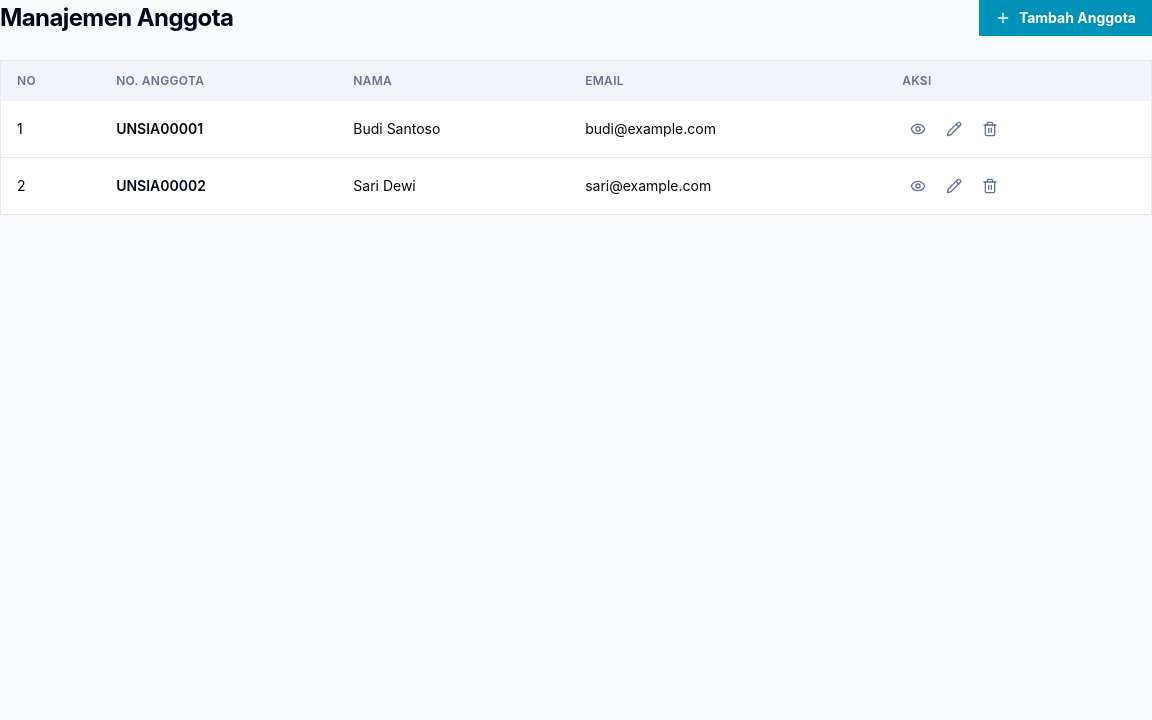
Test: MembersPage › falls back to a dash when optional fields and audit users are null
The width and height of the screenshot is (1152, 720).
Expected: the text "Budi Santoso" is shown, [337, 101, 569, 158]
Click the button named "Lihat detail" in the row of "UNSIA00002".
click(918, 186)  # box [902, 170, 934, 202]
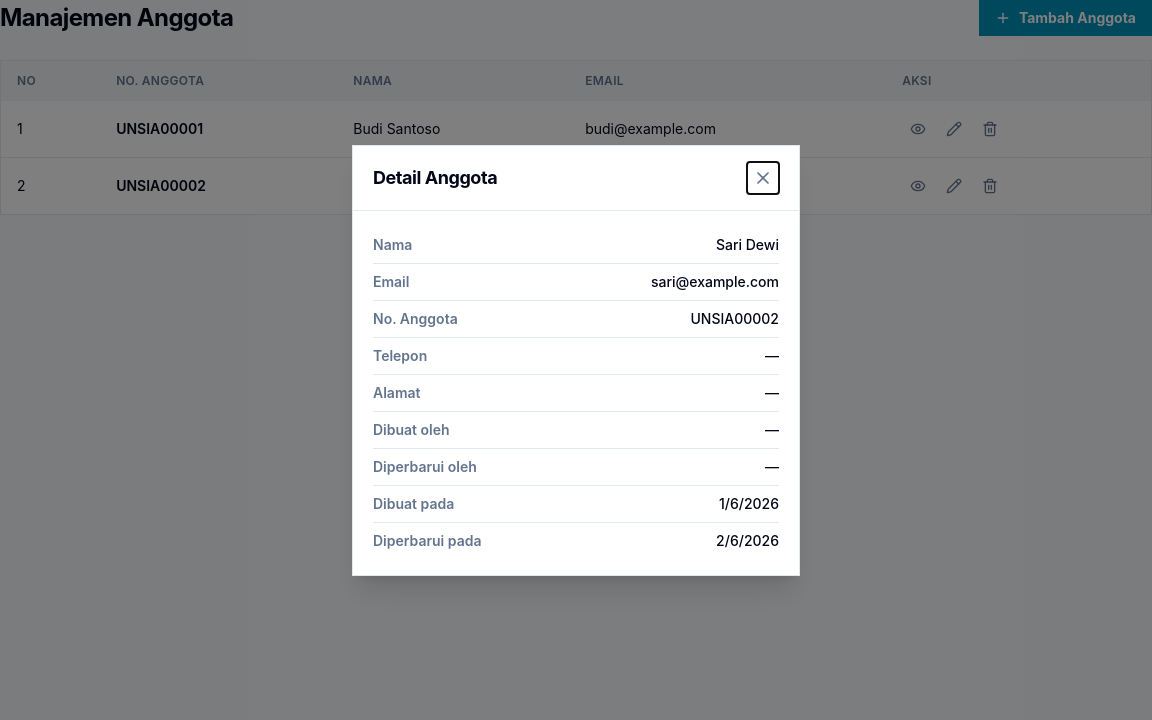
Expected: the text "—" is shown 4 times, [765, 346, 779, 366]; [765, 382, 779, 402]; [765, 420, 779, 440]; [765, 456, 779, 476]
